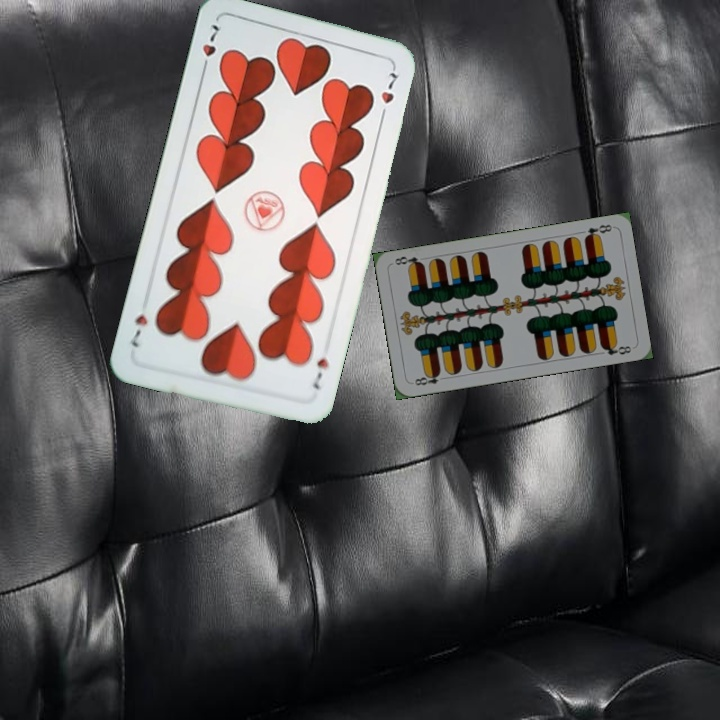E8: (410, 368, 449, 388), (581, 220, 615, 242)
H7: (198, 20, 222, 77), (308, 353, 331, 392)
